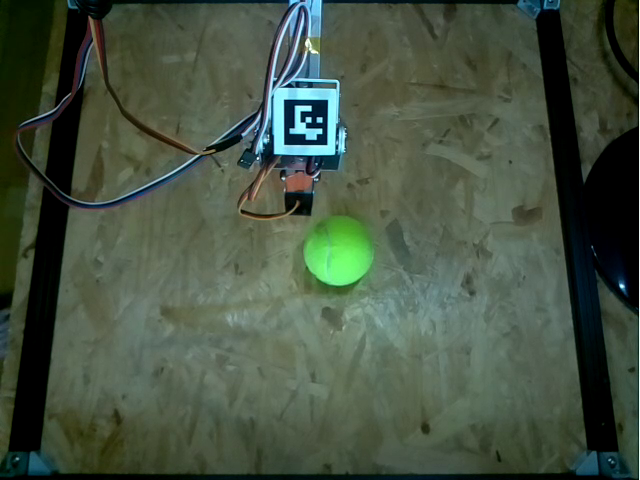tennis_ball: (304, 216, 372, 286)
